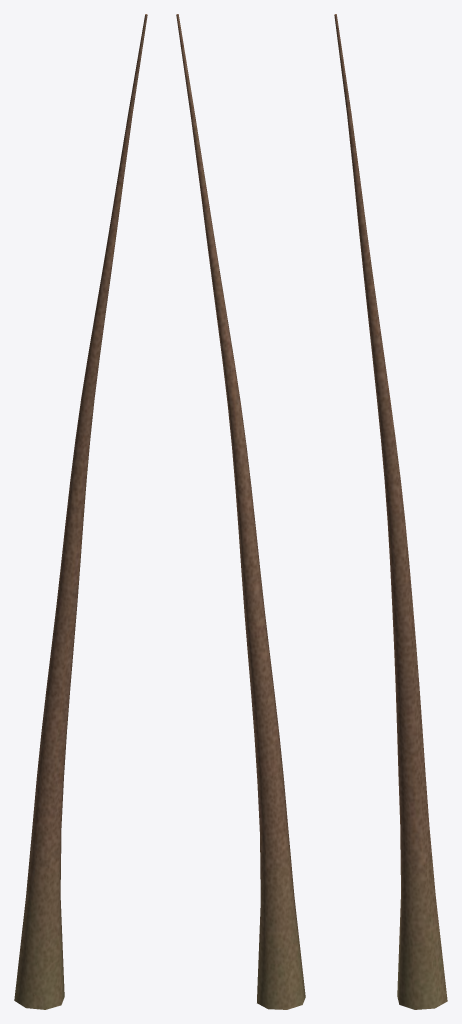
Rendered from spruce2_trunk.glb.
3 renders of one model, left to right at view 1: azimuth 30°, elevation 25°; view 2: azimuth 210°, elevation 25°; view 3: azimuth 270°, elevation 25°, orthographic. The views are drawn at different scales.
Parts seen in each view (by area): view 1: trunk; view 2: trunk; view 3: trunk.
Part boxes in pixels (x1,y1,x2,y2): trunk: (14, 14, 147, 1009); trunk: (176, 14, 305, 1009); trunk: (334, 14, 447, 1009).
Size of the model in its own units: 0.7553 by 8.33 by 0.8411.
1 material, 1 textured.
